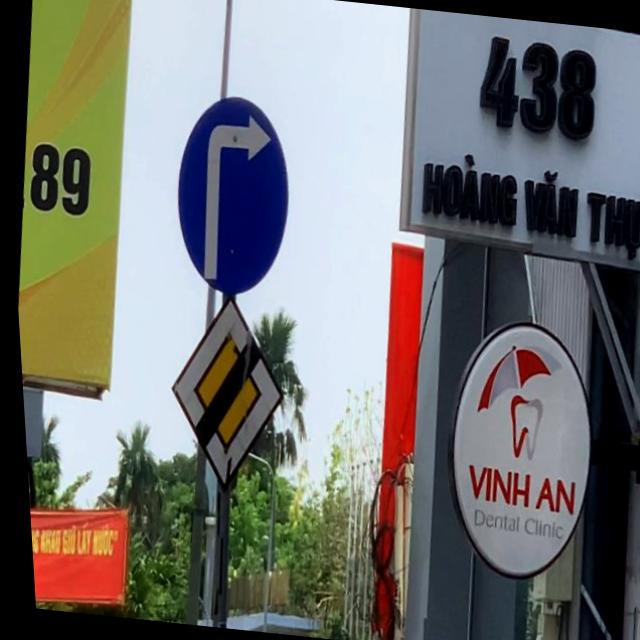Cac xe chi duoc re phai: (159, 80, 306, 300)
